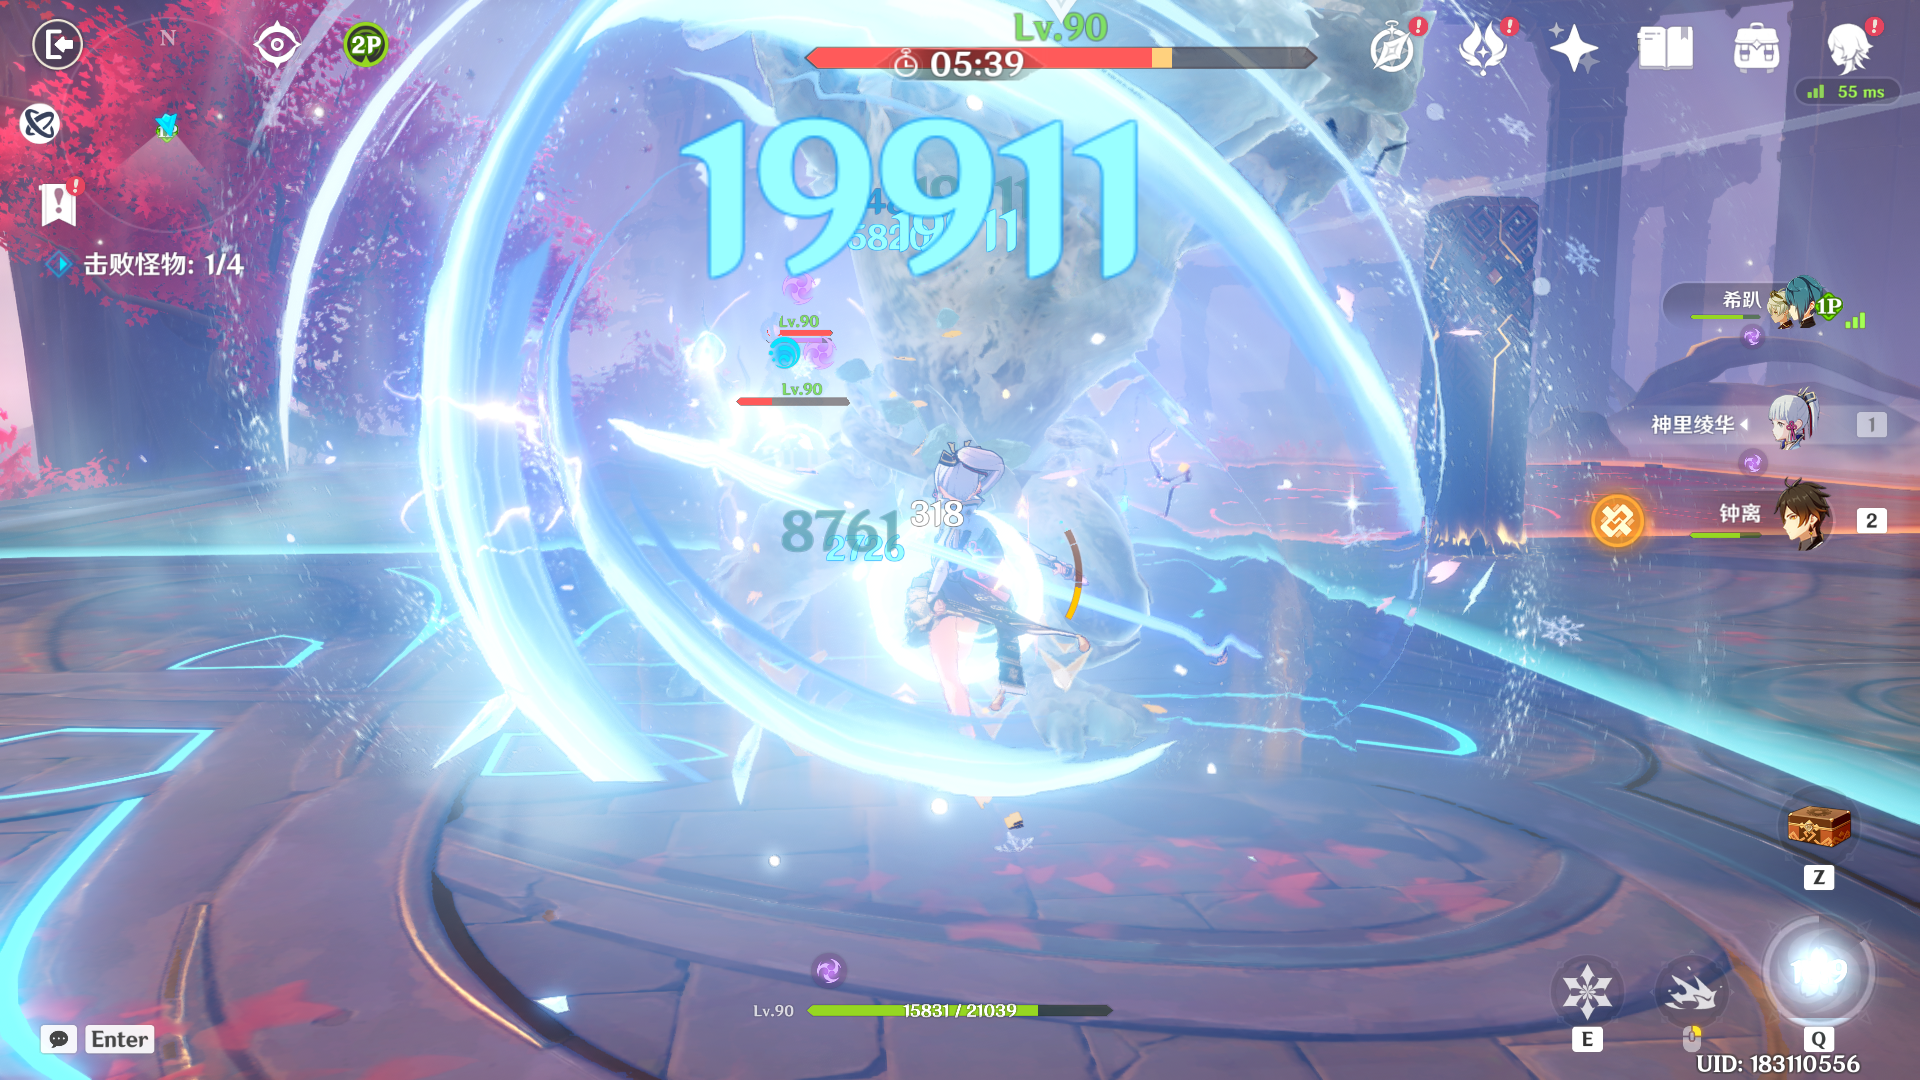character: (865, 439, 1079, 791)
